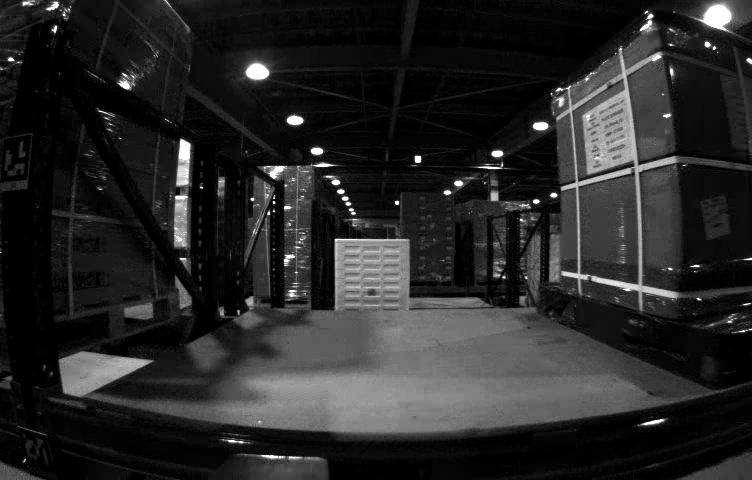True Barcode: (699, 192, 733, 240)
